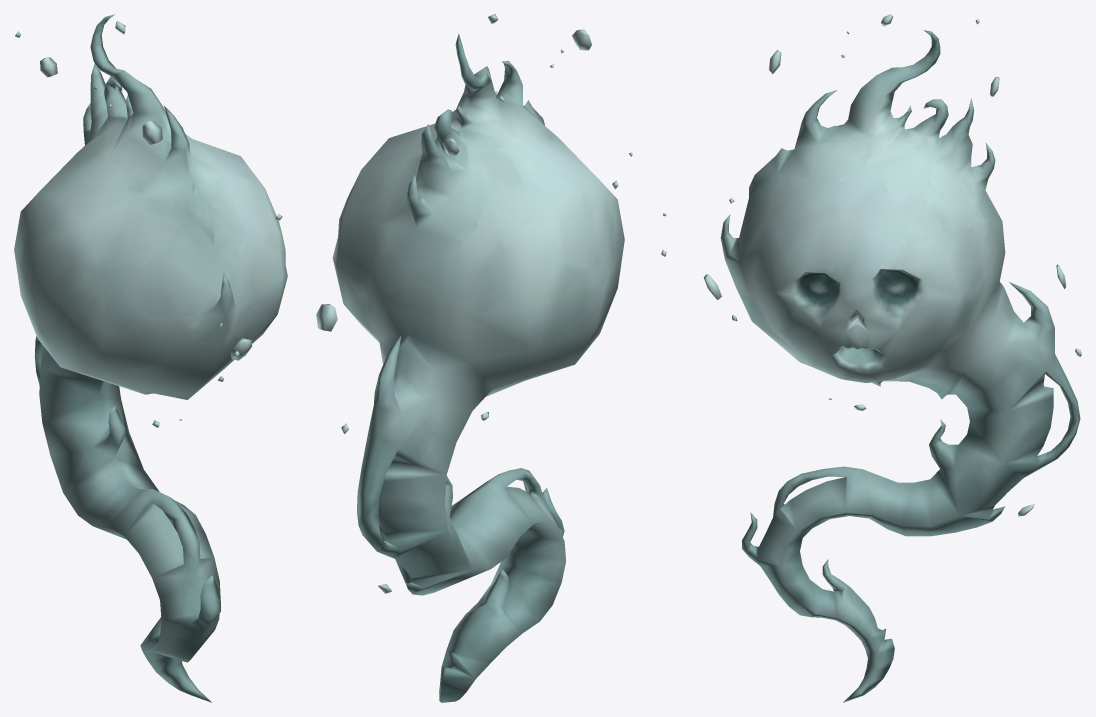
The model's file is fen_wisp.glb.
3 views of the same model, side by side, from view 1: azimuth 30°, elevation 25°; view 2: azimuth 150°, elevation 25°; view 3: azimuth 270°, elevation 25° (orthographic). The views are drawn at different scales.
Visible parts, largest first — view 1: tripo_node_1f5a38d6-df3d-4581-9199-287bcbadf1f8; view 2: tripo_node_1f5a38d6-df3d-4581-9199-287bcbadf1f8; view 3: tripo_node_1f5a38d6-df3d-4581-9199-287bcbadf1f8.
Boxes of the visible parts, <box> form: tripo_node_1f5a38d6-df3d-4581-9199-287bcbadf1f8: <box>14,14,287,702</box>; tripo_node_1f5a38d6-df3d-4581-9199-287bcbadf1f8: <box>316,14,632,702</box>; tripo_node_1f5a38d6-df3d-4581-9199-287bcbadf1f8: <box>661,14,1081,702</box>.
Size of the model in its own units: 0.3613 by 0.998 by 0.5801.
Materials: 1 (1 with a texture image).
